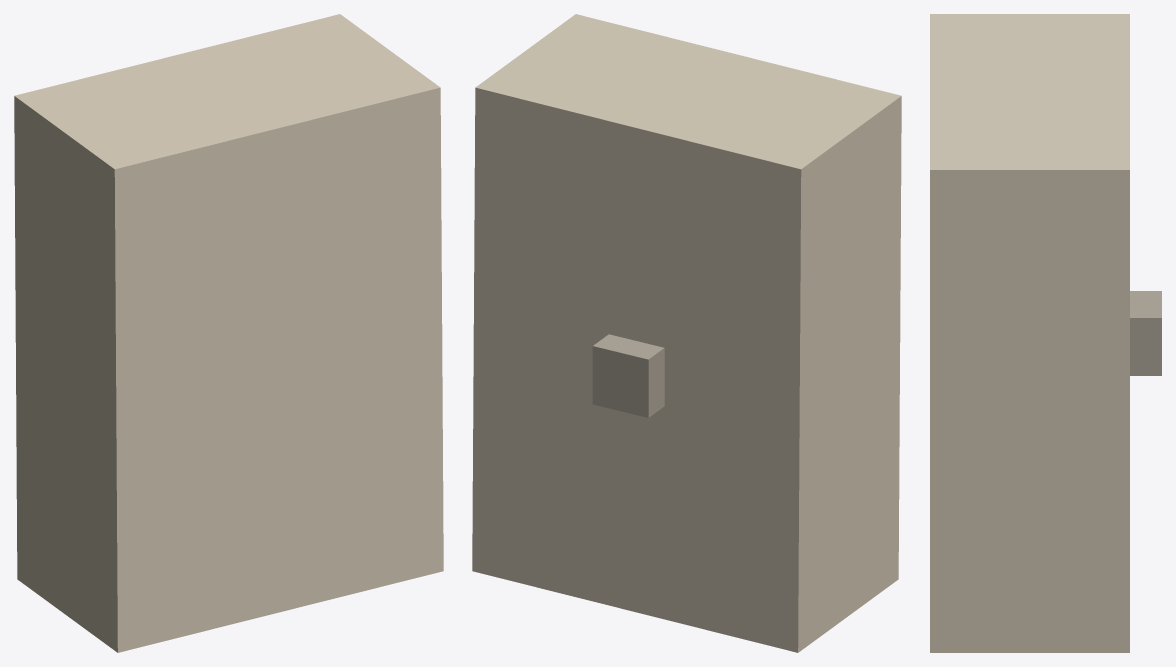
Rendered from historic-palestine-07_01_3486_2958.glb.
The picture shows the model from 3 angles, left to right: view 1: azimuth 30°, elevation 25°; view 2: azimuth 150°, elevation 25°; view 3: azimuth 270°, elevation 25°; orthographic projection.
Visible parts, largest first — view 1: Building_; view 2: Building_, Roof access hut; view 3: Building_, Roof access hut.
Boxes of the visible parts, left/top/right/bottom form: Building_: left=14, top=14, right=443, bottom=652; Building_: left=472, top=14, right=901, bottom=652; Roof access hut: left=592, top=334, right=664, bottom=417; Building_: left=930, top=14, right=1129, bottom=652; Roof access hut: left=1130, top=291, right=1161, bottom=375.
Size of the model in its own units: 14.17 by 20.03 by 8.7.
